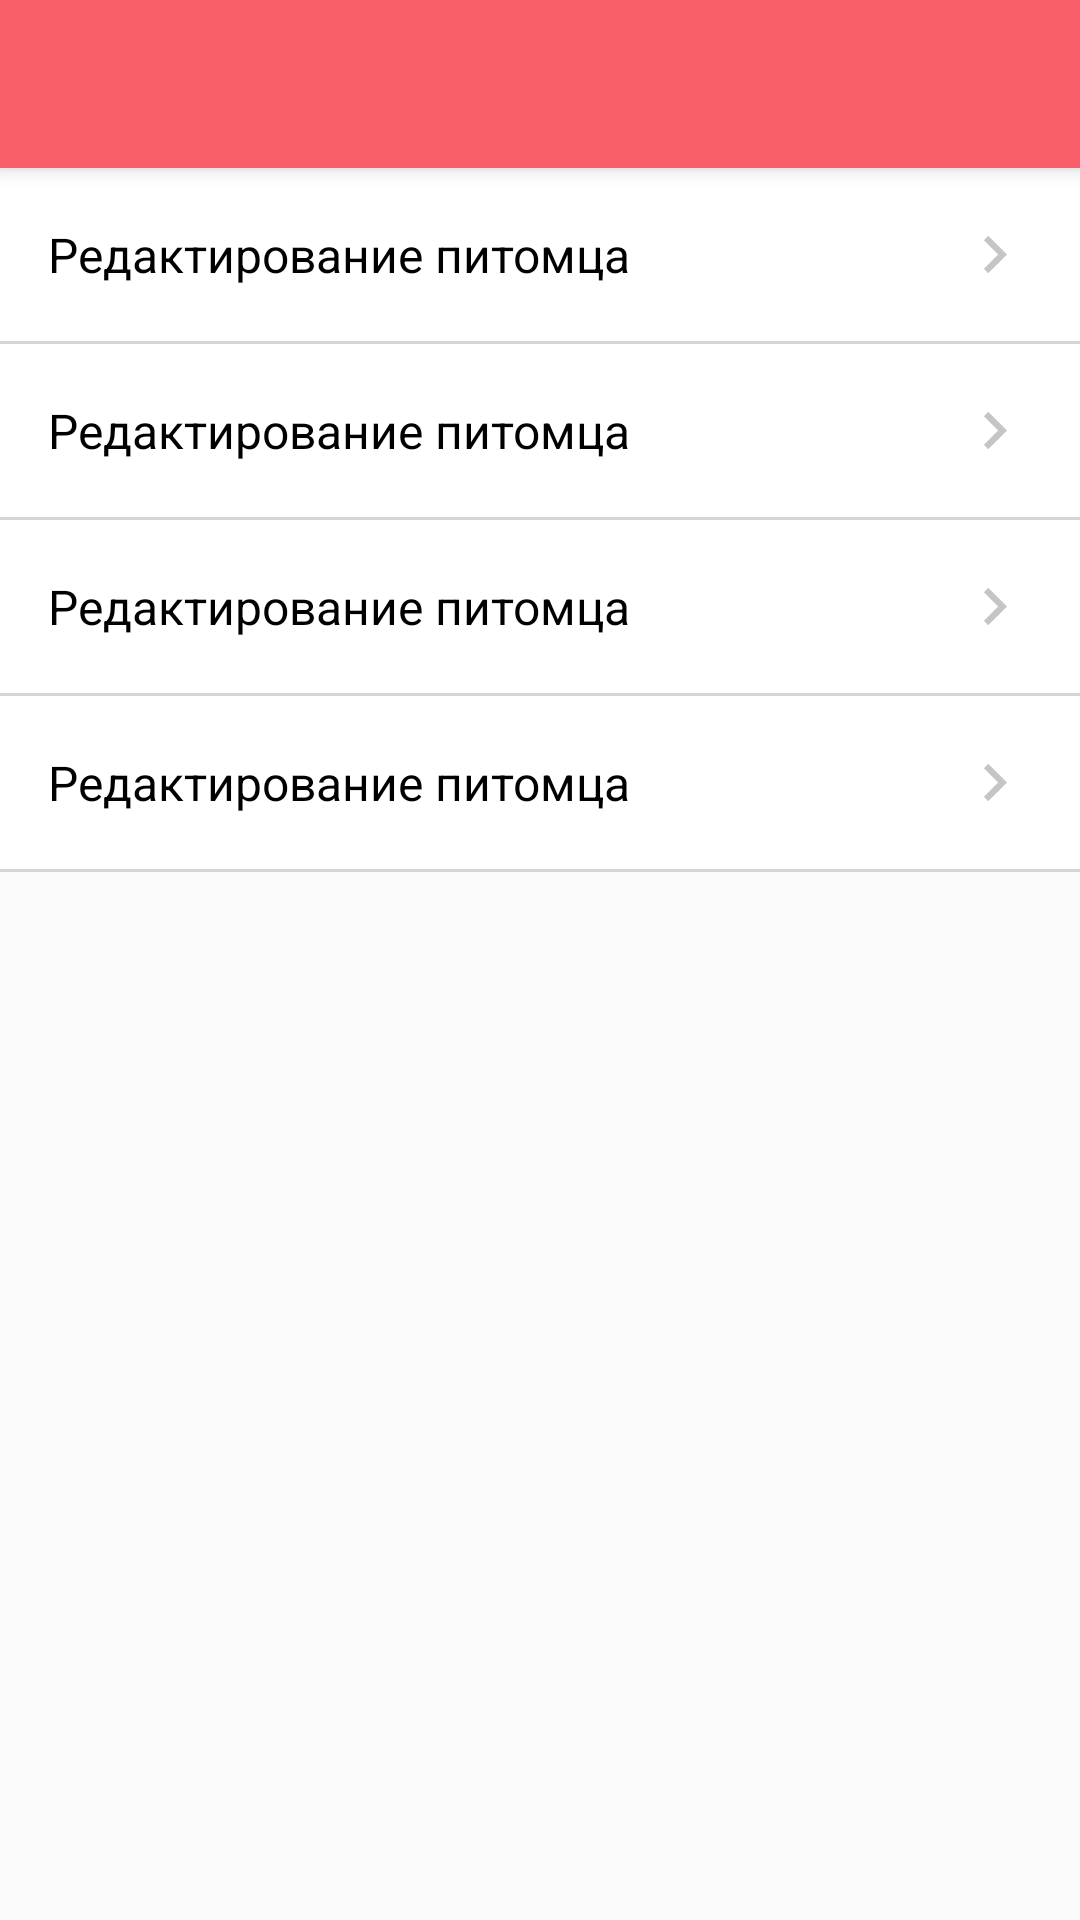

Where icons sit on this 1080px x 1920px app screen, as (x1, y1, x2, y2):
arrow forward: (984, 236, 1007, 273), (984, 412, 1007, 449), (984, 588, 1007, 625), (984, 764, 1007, 801)
